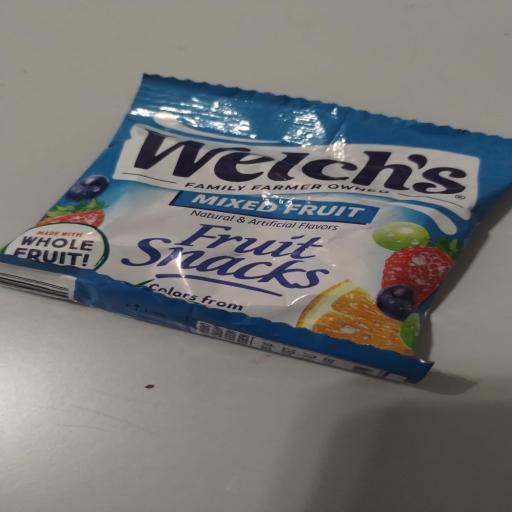chocolate: (0, 76, 511, 382)
